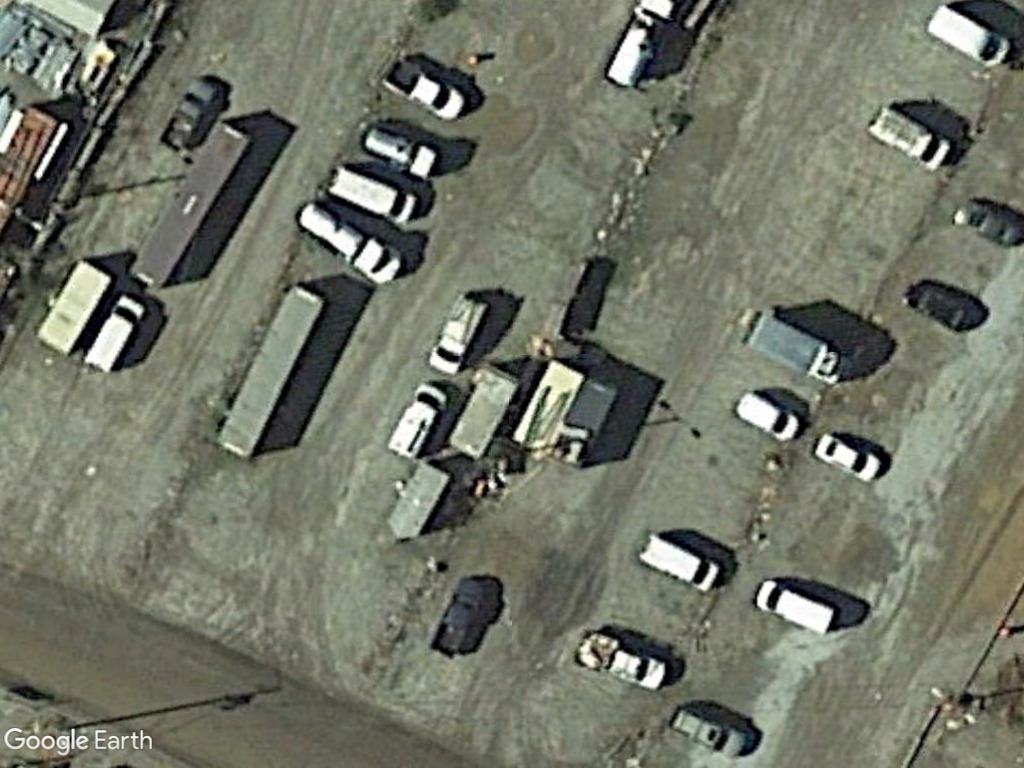car: (661, 700, 755, 761), (807, 425, 888, 484)
other: (377, 60, 470, 121)
van: (631, 528, 726, 600), (370, 382, 450, 467), (912, 8, 1012, 71), (748, 574, 841, 640), (79, 290, 147, 375), (424, 290, 488, 378), (727, 390, 803, 443)
